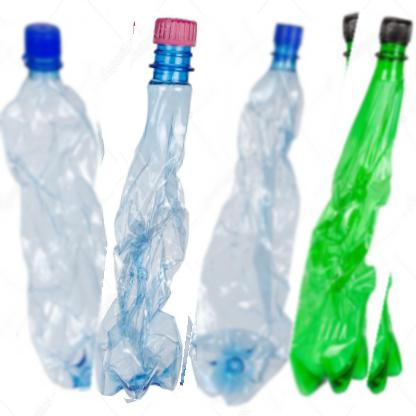plastic-bottles: (198, 16, 328, 411), (300, 12, 416, 407), (103, 14, 214, 404), (1, 19, 116, 394)
